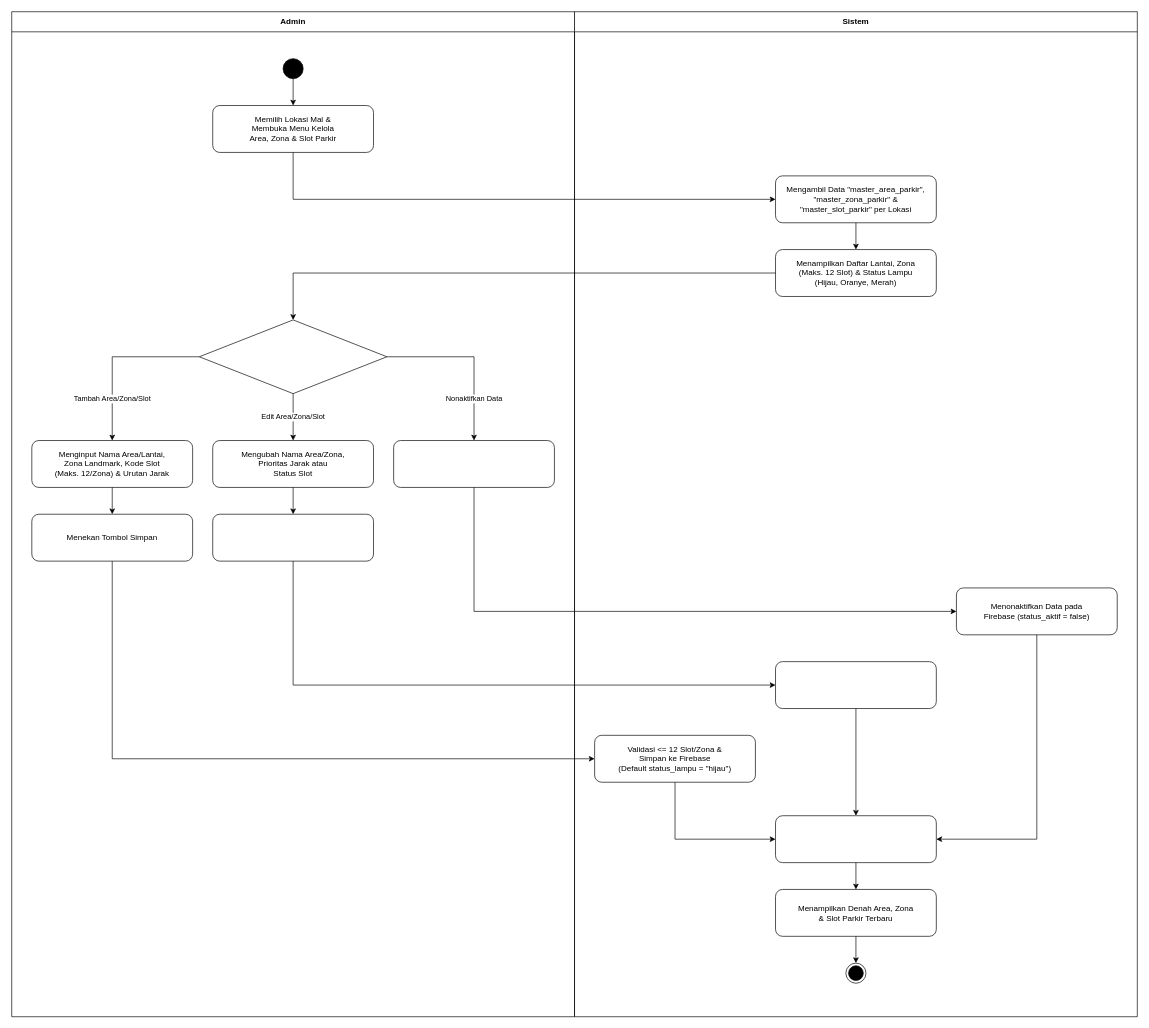
The diagram is 1149 pixels wide and 1028 high, and some of its shapes have lost their labels. The centre of each missing label's shape, as x and y in pixels:
Memilih Area / Zona / Slot & Konfirmasi Nonaktifkan: (473,463)
Memperbarui Data pada "master_area/zona/slot_parkir": (855,685)
Mencatat Aktivitas ke "log_aktivitas": (855,839)
Menekan Tombol Update: (293,537)
Pilih Aksi?: (293,356)
